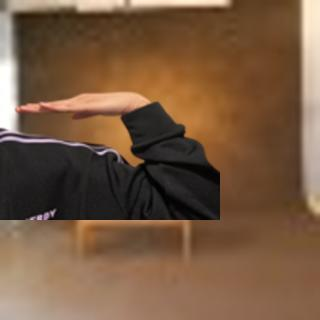Wait: (13, 80, 149, 123)
